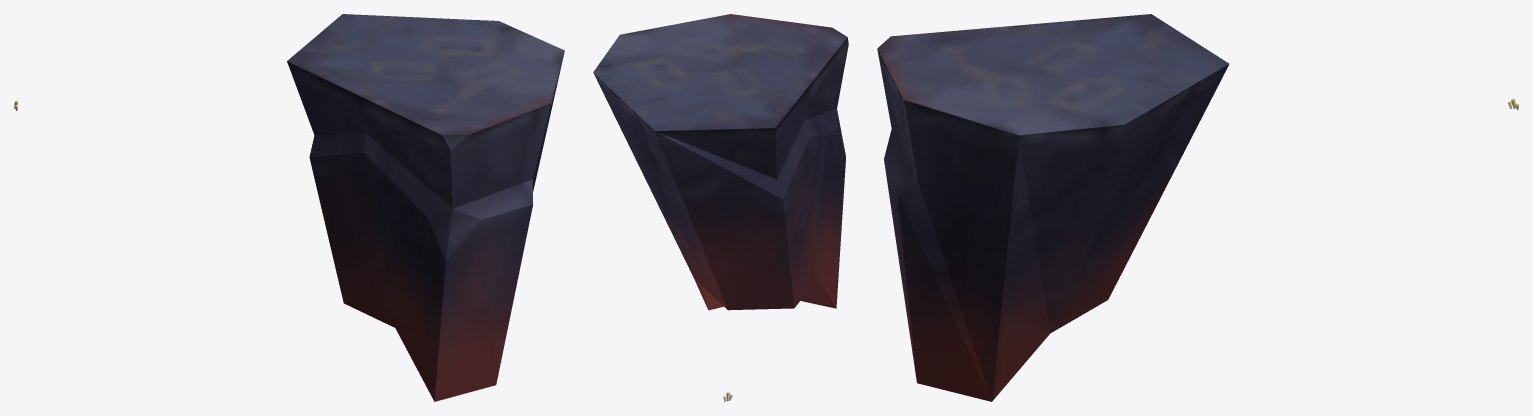
The model's file is Area05_4.fbx.
3 renders of one model, left to right at view 1: azimuth 30°, elevation 25°; view 2: azimuth 150°, elevation 25°; view 3: azimuth 270°, elevation 25°, orthographic. The views are drawn at different scales.
Parts seen in each view (by area): view 1: Area05_4; view 2: Area05_4; view 3: Area05_4.
Boxes of the visible parts, x1,y1,x2,y2 form: Area05_4: (14,14,564,401); Area05_4: (593,14,848,401); Area05_4: (877,14,1518,401).
Bounding box in the file's own units: 1915 × 1505 × 2817.
